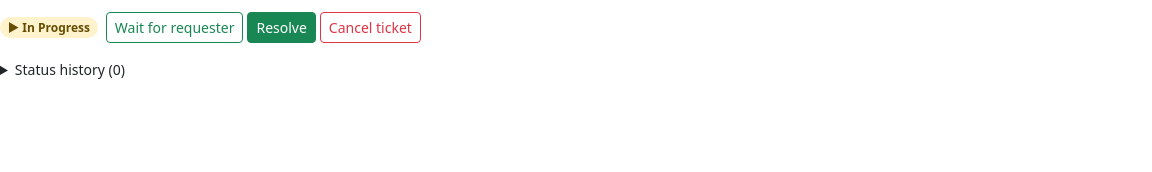
Scenario: TicketWorkflowControl › shows the resolution gate message from the server
Check: the heading "Status history (0)" is shown, box [15,60,125,79]
Click the button "Resolve" at (282, 28), box [247,12,316,43]
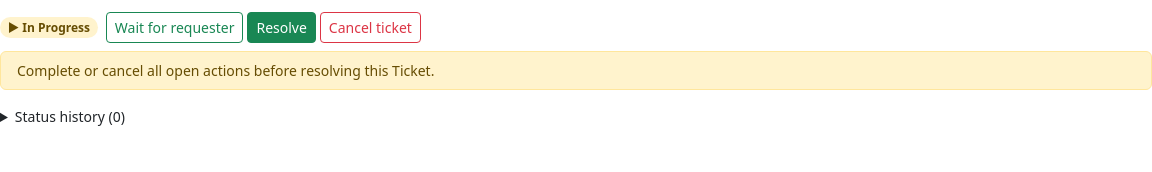
Check: the message shows "Complete or cancel all open actions", box [17,61,434,80]
